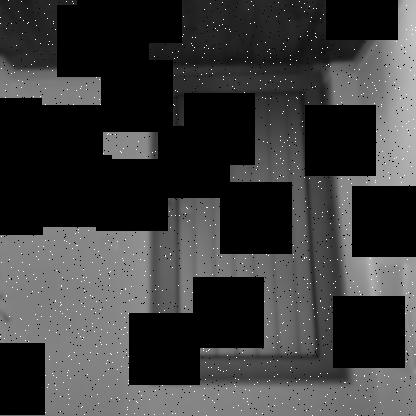Porte: (144, 67, 354, 386)
